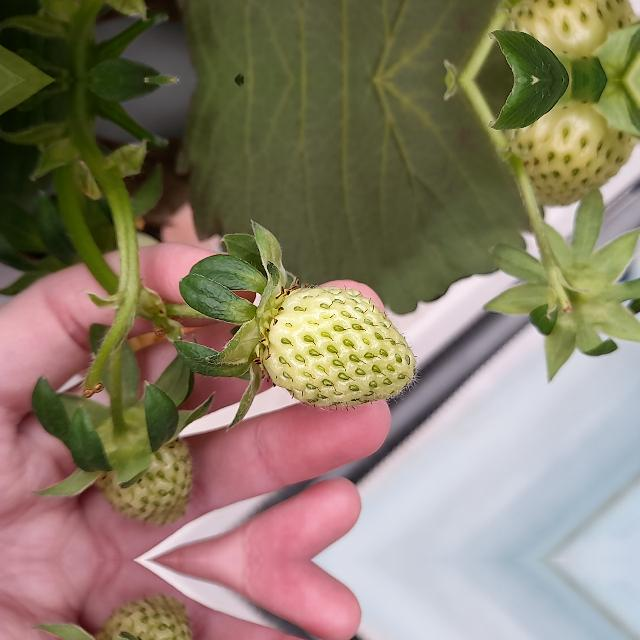Health_25: (262, 286, 416, 406), (514, 83, 634, 207), (96, 416, 194, 520), (513, 0, 634, 77), (95, 600, 194, 640)
